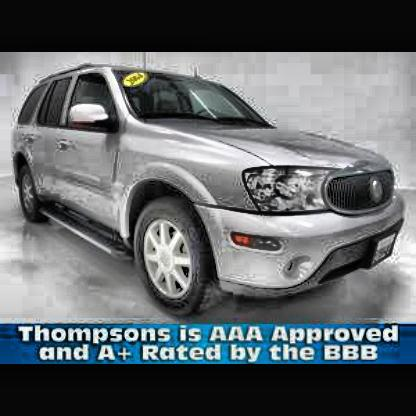Buick Rainier SUV 2007: (14, 62, 407, 324)
